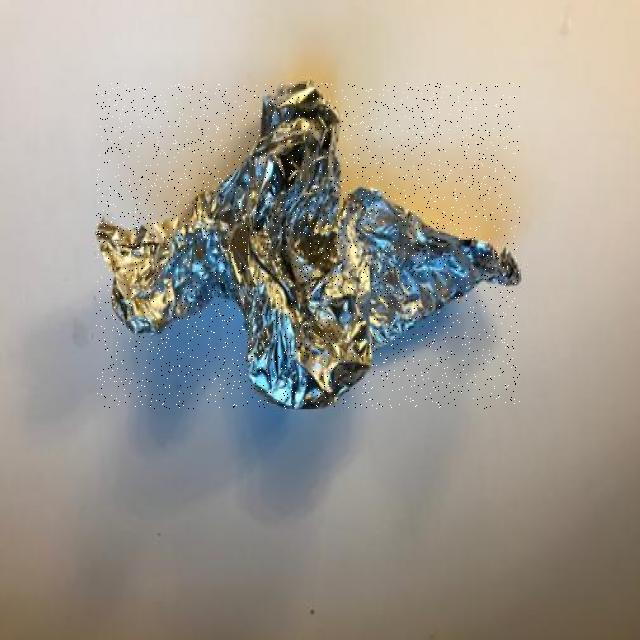metal: (96, 83, 520, 408)
